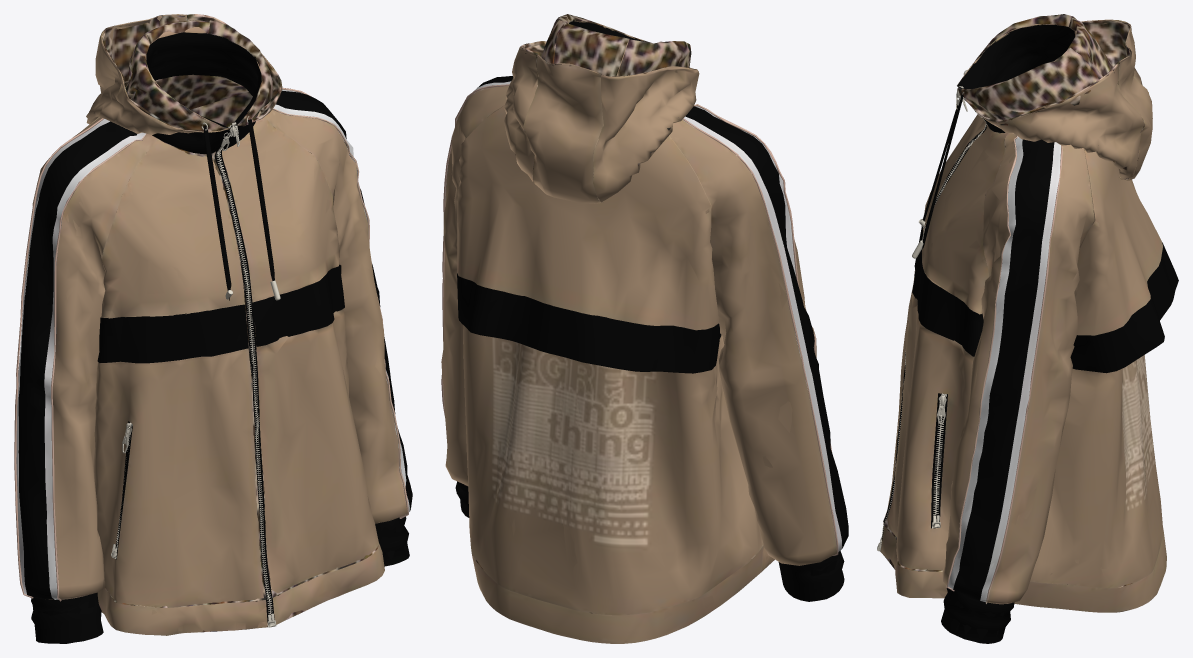
File: khaki-overshirt.glb
3 renders of one model, left to right at view 1: azimuth 30°, elevation 25°; view 2: azimuth 150°, elevation 25°; view 3: azimuth 270°, elevation 25°, orthographic. The views are drawn at different scales.
Visible parts, largest first — view 1: khaki-overshirt_surface_2, khaki-overshirt_surface_10, khaki-overshirt_surface_0; view 2: khaki-overshirt_surface_2; view 3: khaki-overshirt_surface_2, khaki-overshirt_surface_10, khaki-overshirt_surface_0.
Boxes of the visible parts, x1=… form: khaki-overshirt_surface_2: x1=14, y1=14, x2=412, y2=643; khaki-overshirt_surface_10: x1=116, y1=129, x2=272, y2=614; khaki-overshirt_surface_0: x1=111, y1=116, x2=280, y2=627; khaki-overshirt_surface_2: x1=441, y1=14, x2=848, y2=643; khaki-overshirt_surface_2: x1=880, y1=14, x2=1178, y2=643; khaki-overshirt_surface_10: x1=881, y1=108, x2=986, y2=537; khaki-overshirt_surface_0: x1=877, y1=69, x2=967, y2=551.
Size of the model in its own units: 1.59 by 2.2 by 1.11.
3 materials, 1 textured.
